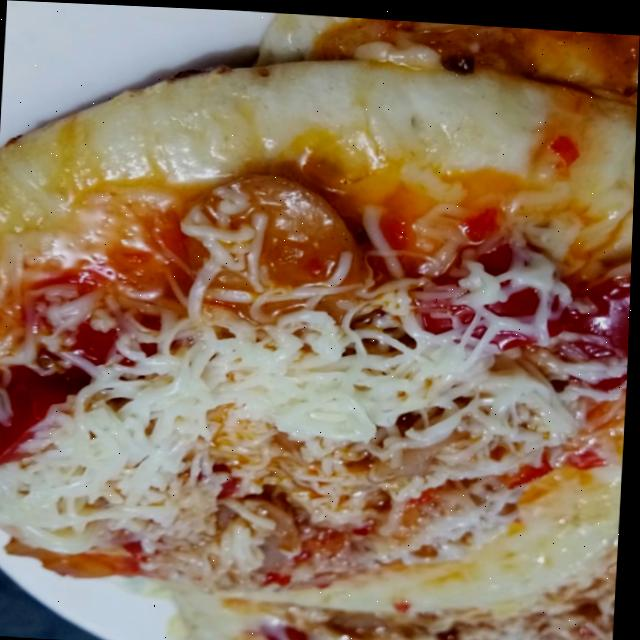pizza: (0, 30, 639, 640)
